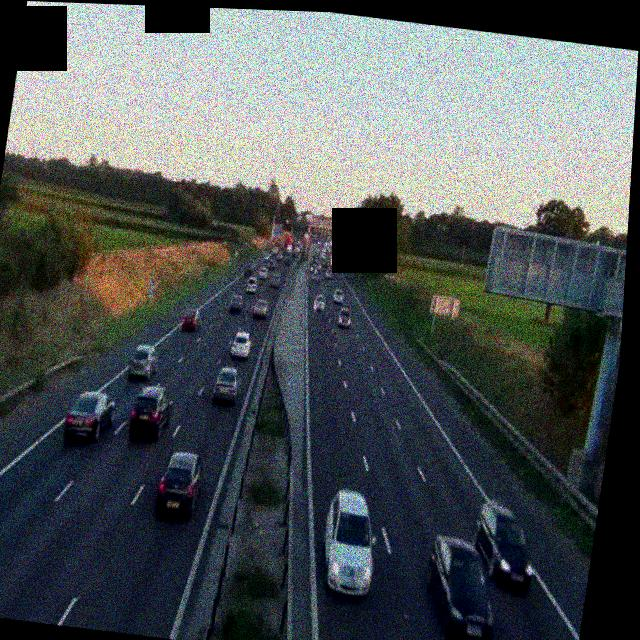car: (417, 533, 506, 640), (466, 499, 543, 593), (316, 488, 382, 597), (153, 448, 205, 518), (61, 387, 117, 447), (126, 383, 175, 440), (126, 343, 161, 383), (213, 367, 242, 404), (228, 329, 252, 360), (181, 308, 201, 331), (226, 293, 244, 314), (251, 296, 268, 318), (336, 308, 353, 328), (312, 293, 326, 312), (243, 276, 257, 293), (332, 287, 344, 305), (270, 273, 279, 288), (309, 267, 319, 280)
truck: (281, 232, 294, 254)
